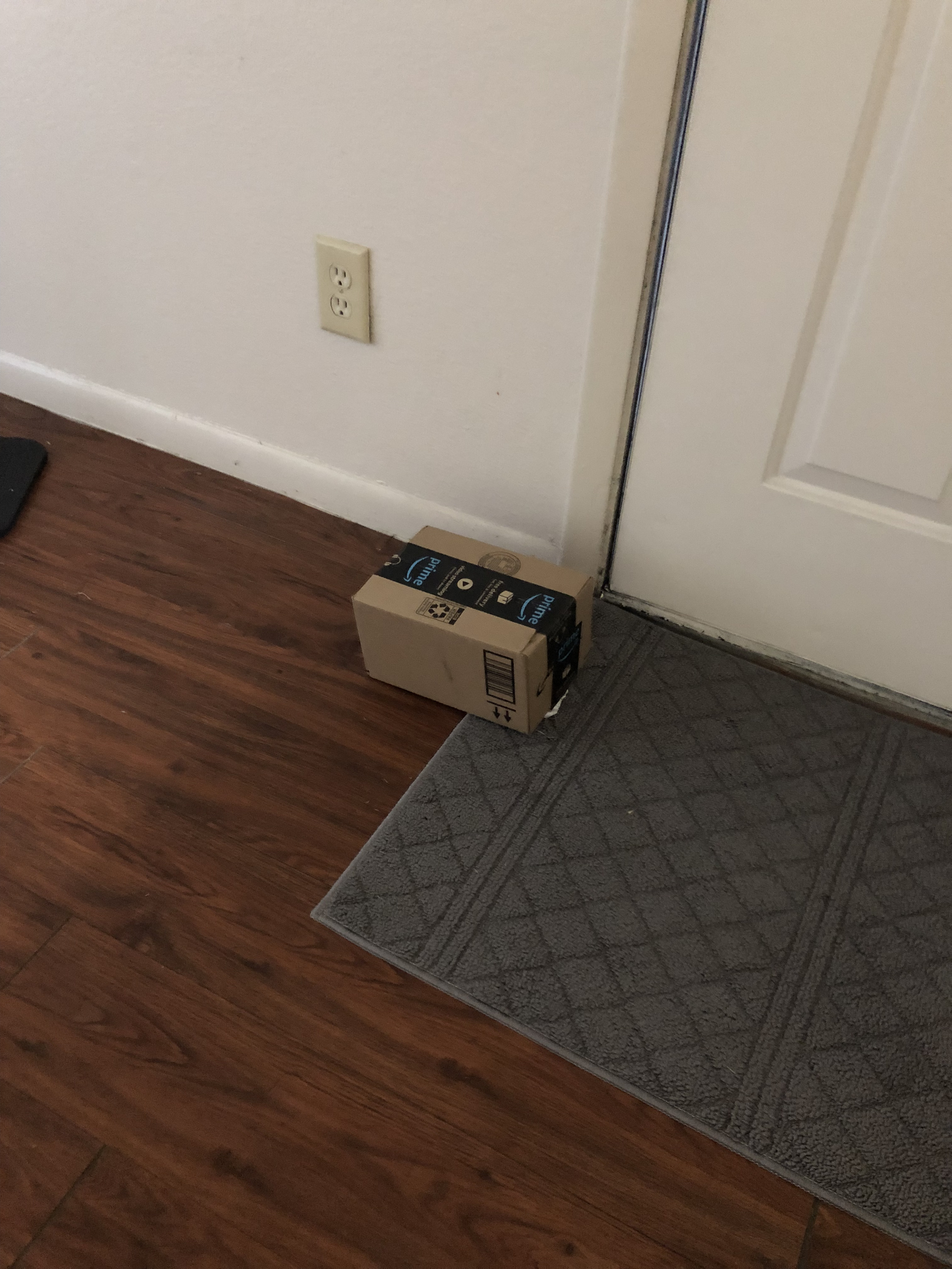package: (336, 518, 613, 745)
